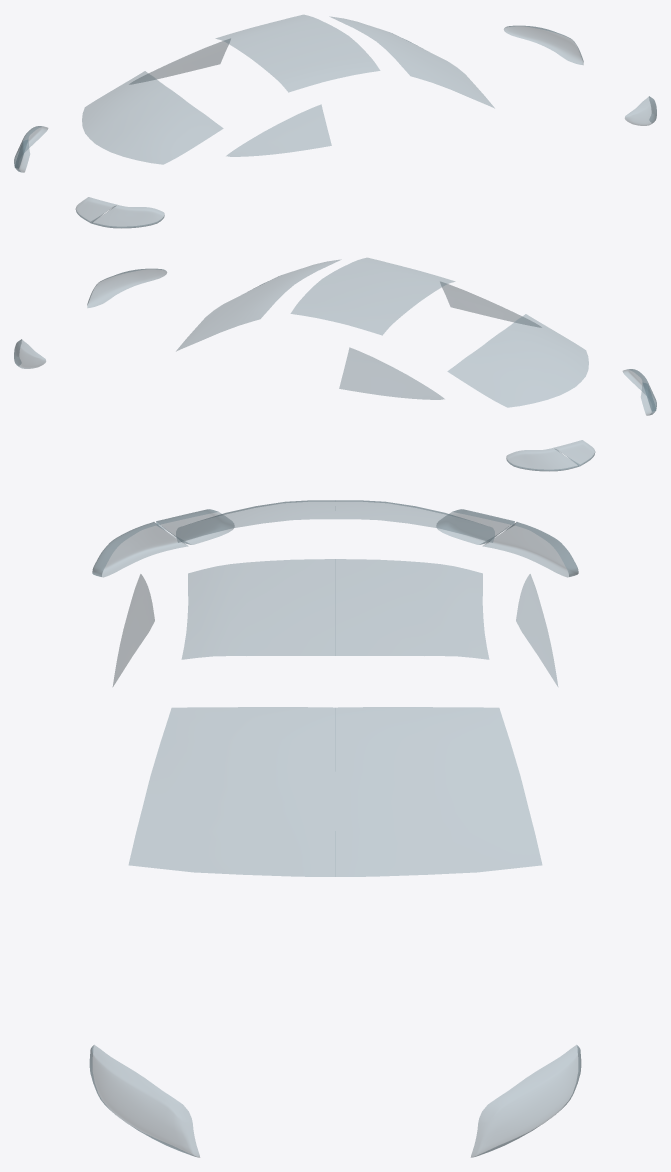
3 views of the same model, one above another, from view 1: azimuth 30°, elevation 25°; view 2: azimuth 150°, elevation 25°; view 3: azimuth 270°, elevation 25° (orthographic). The views are drawn at different scales.
Visible parts, largest first — view 1: SM_Glass_MercedesCCC_Ext2; view 2: SM_Glass_MercedesCCC_Ext2; view 3: SM_Glass_MercedesCCC_Ext2.
Part boxes in pixels (left/top/right/bottom): SM_Glass_MercedesCCC_Ext2: left=14, top=15, right=656, bottom=228; SM_Glass_MercedesCCC_Ext2: left=14, top=258, right=656, bottom=471; SM_Glass_MercedesCCC_Ext2: left=89, top=500, right=581, bottom=1157.
Size of the model in its own units: 4.42 by 0.9025 by 1.65.
